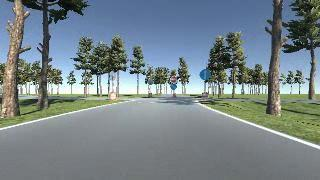go_ahead: (200, 69, 210, 80)
